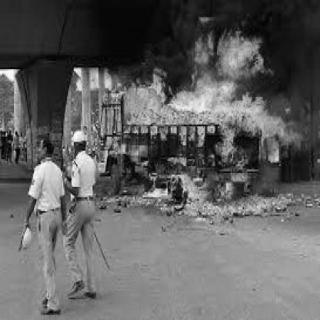Fire: (167, 16, 299, 152)
